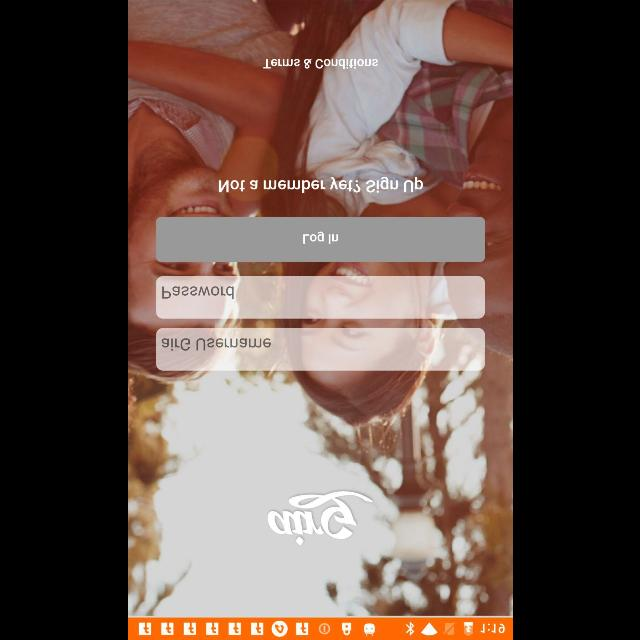backgroundimage: (128, 0, 512, 618)
image: (267, 490, 373, 546)
input: (156, 276, 484, 318), (156, 328, 484, 370)
text: (218, 176, 422, 194), (162, 338, 270, 352), (262, 59, 378, 70), (161, 286, 233, 300)
textbutton: (156, 216, 484, 262)
uppertaskbar: (128, 617, 512, 639)
